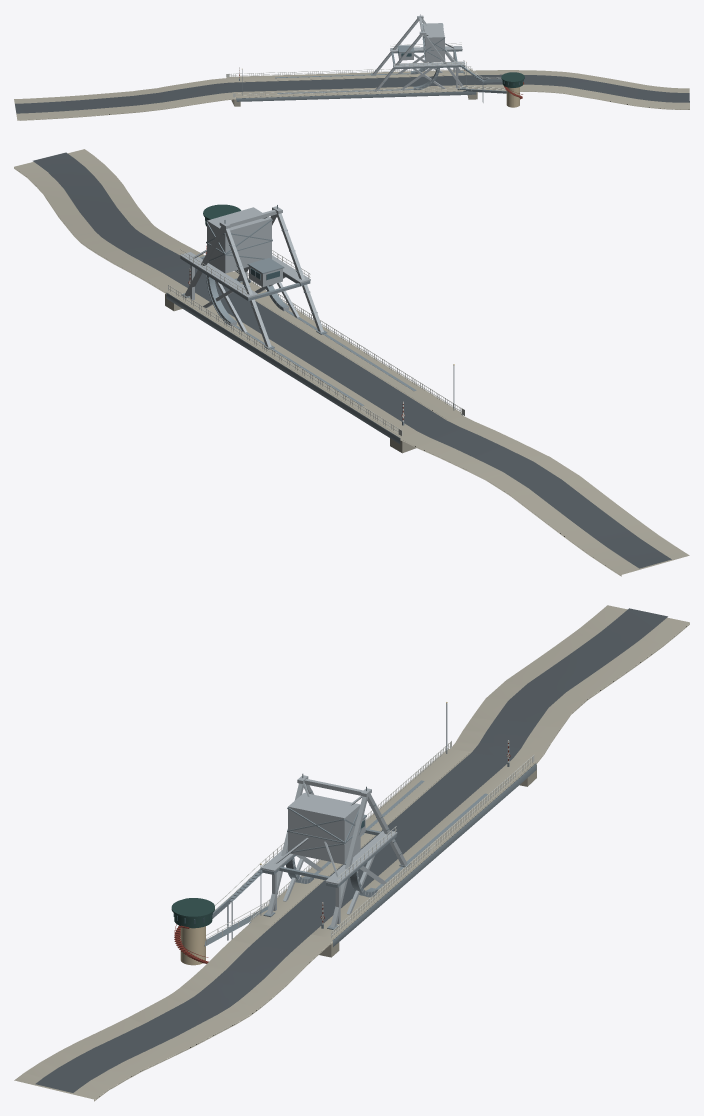
The model's file is pegasus-bridge-near.glb.
3 renders of one model, top to bottom at view 1: azimuth 30°, elevation 25°; view 2: azimuth 150°, elevation 25°; view 3: azimuth 270°, elevation 25°, orthographic. The views are drawn at different scales.
Parts seen in each view (by area): view 1: pegasus-bridge-0-concrete, pegasus-bridge-0-asphalt, pegasus-bridge-0-edge, pegasus-bridge-0-steel, pegasus-bridge-0-rail, pegasus-bridge-0-roof, pegasus-bridge-0-tower; view 2: pegasus-bridge-0-concrete, pegasus-bridge-0-asphalt, pegasus-bridge-0-steel, pegasus-bridge-0-edge, pegasus-bridge-0-rail; view 3: pegasus-bridge-0-concrete, pegasus-bridge-0-asphalt, pegasus-bridge-0-steel, pegasus-bridge-0-edge, pegasus-bridge-0-rail, pegasus-bridge-0-roof, pegasus-bridge-0-tower.
Part boxes in pixels (<box>): pegasus-bridge-0-concrete: <box>14,69,689,120</box>; pegasus-bridge-0-asphalt: <box>15,74,689,113</box>; pegasus-bridge-0-edge: <box>236,14,506,102</box>; pegasus-bridge-0-steel: <box>372,15,464,90</box>; pegasus-bridge-0-rail: <box>226,42,505,97</box>; pegasus-bridge-0-roof: <box>501,72,524,87</box>; pegasus-bridge-0-tower: <box>506,87,519,107</box>; pegasus-bridge-0-concrete: <box>14,149,689,576</box>; pegasus-bridge-0-asphalt: <box>33,152,671,568</box>; pegasus-bridge-0-steel: <box>180,206,323,347</box>; pegasus-bridge-0-edge: <box>166,205,462,443</box>; pegasus-bridge-0-rail: <box>168,249,464,436</box>; pegasus-bridge-0-concrete: <box>14,605,689,1101</box>; pegasus-bridge-0-asphalt: <box>35,608,667,1092</box>; pegasus-bridge-0-steel: <box>261,775,407,927</box>; pegasus-bridge-0-edge: <box>204,703,536,946</box>; pegasus-bridge-0-rail: <box>206,740,534,944</box>; pegasus-bridge-0-roof: <box>171,898,214,928</box>; pegasus-bridge-0-tower: <box>180,926,205,965</box>.
Size of the model in its own units: 198 by 24.95 by 115.
